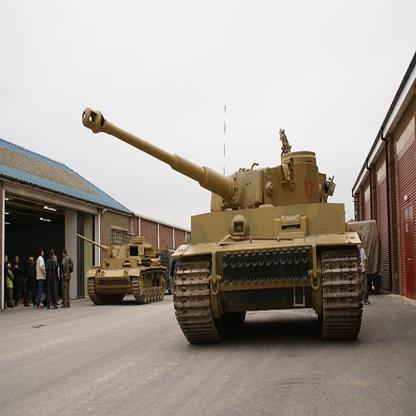Tank: (167, 139, 387, 355), (81, 224, 166, 315)
